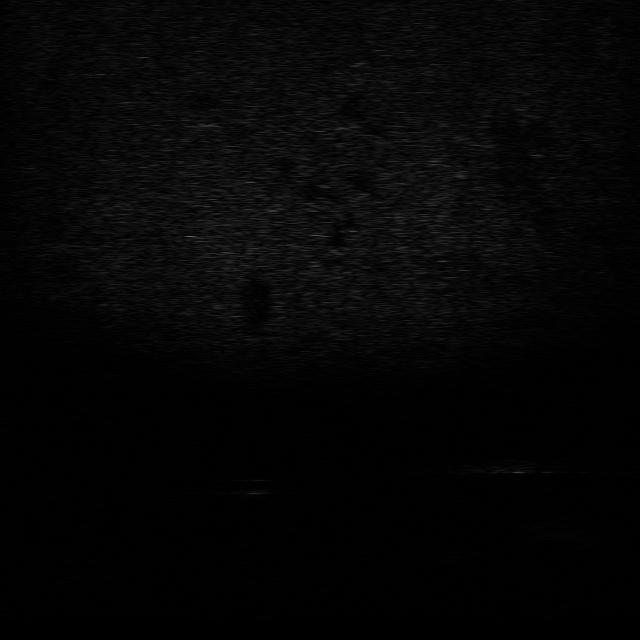ball: (228, 472, 278, 500)
circle cage: (532, 510, 608, 551)
human body: (451, 455, 580, 478)
